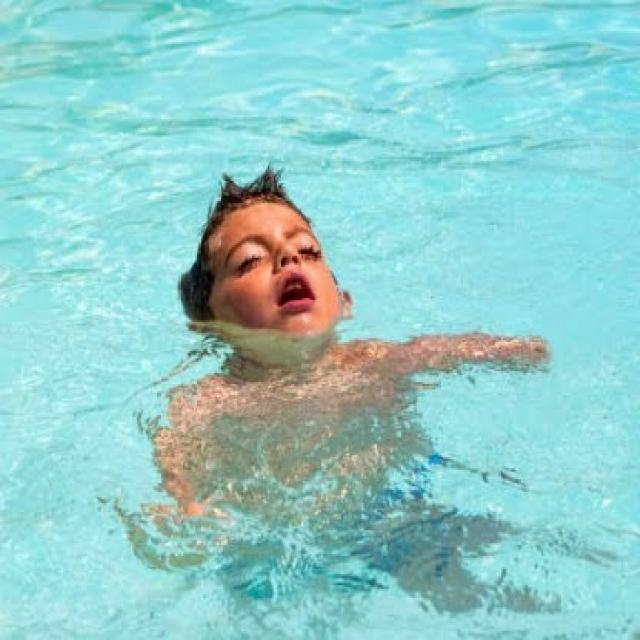drowning: (110, 138, 444, 451)
